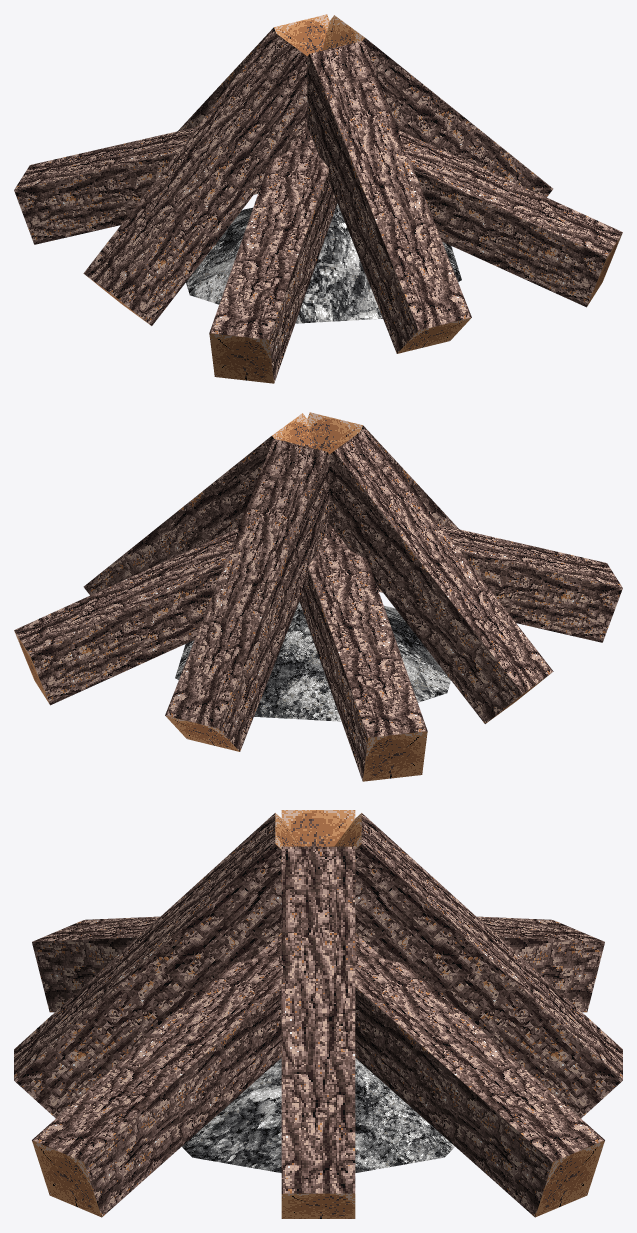
File: Campfire.glb
The picture shows the model from 3 angles, top to bottom: view 1: azimuth 30°, elevation 25°; view 2: azimuth 150°, elevation 25°; view 3: azimuth 270°, elevation 25°; orthographic projection. The views are drawn at different scales.
Visible parts, largest first — view 1: Log.002, Log, Log.007, Log.005, Log.004, Log.003, Ash, Log.001; view 2: Log.002, Log.001, Log.004, Log.006, Log.007, Log.003, Ash, Log; view 3: Log.005, Log.006, Log, Log.001, Log.003, Ash, Log.004, Log.007, Log.002.
Boxes of the visible parts, <box> form: Log.002: <box>83,30,307,325</box>; Log: <box>307,40,471,353</box>; Log.007: <box>209,126,337,383</box>; Log.005: <box>398,130,622,307</box>; Log.004: <box>14,127,260,244</box>; Log.003: <box>322,15,553,197</box>; Ash: <box>186,203,461,323</box>; Log.001: <box>178,14,329,130</box>; Log.002: <box>329,428,553,723</box>; Log.001: <box>165,438,329,751</box>; Log.004: <box>299,524,427,781</box>; Log.006: <box>14,528,238,705</box>; Log.007: <box>376,525,622,642</box>; Log.003: <box>83,413,314,595</box>; Ash: <box>175,601,450,721</box>; Log: <box>307,412,458,528</box>; Log.005: <box>32,934,281,1217</box>; Log.006: <box>355,934,604,1217</box>; Log: <box>14,813,302,1118</box>; Log.001: <box>334,813,622,1118</box>; Log.003: <box>281,846,355,1218</box>; Ash: <box>182,1058,454,1172</box>; Log.004: <box>355,916,604,1012</box>; Log.007: <box>32,916,281,1012</box>; Log.002: <box>281,810,355,846</box>.
Size of the model in its own units: 3.3 by 1.7 by 3.3.
Materials: 2 (2 with a texture image).
